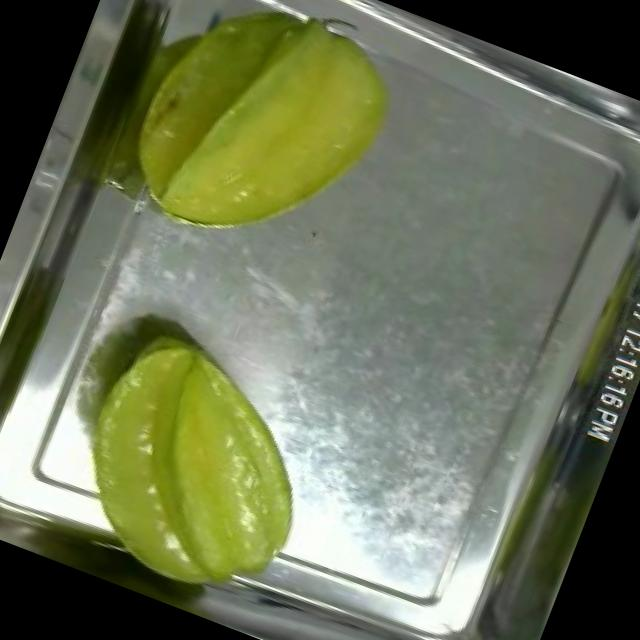fruit: (31, 302, 350, 628), (97, 0, 429, 291)
